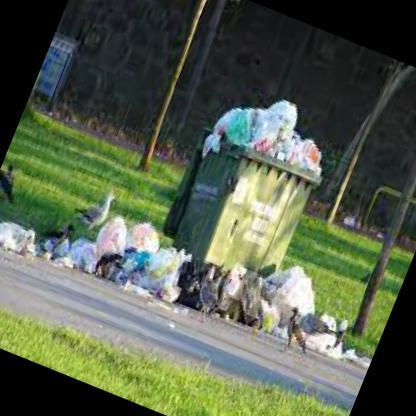Garbage: (213, 80, 341, 173), (86, 212, 199, 310), (181, 258, 270, 328), (300, 308, 378, 370), (278, 266, 322, 308), (0, 221, 42, 262)
